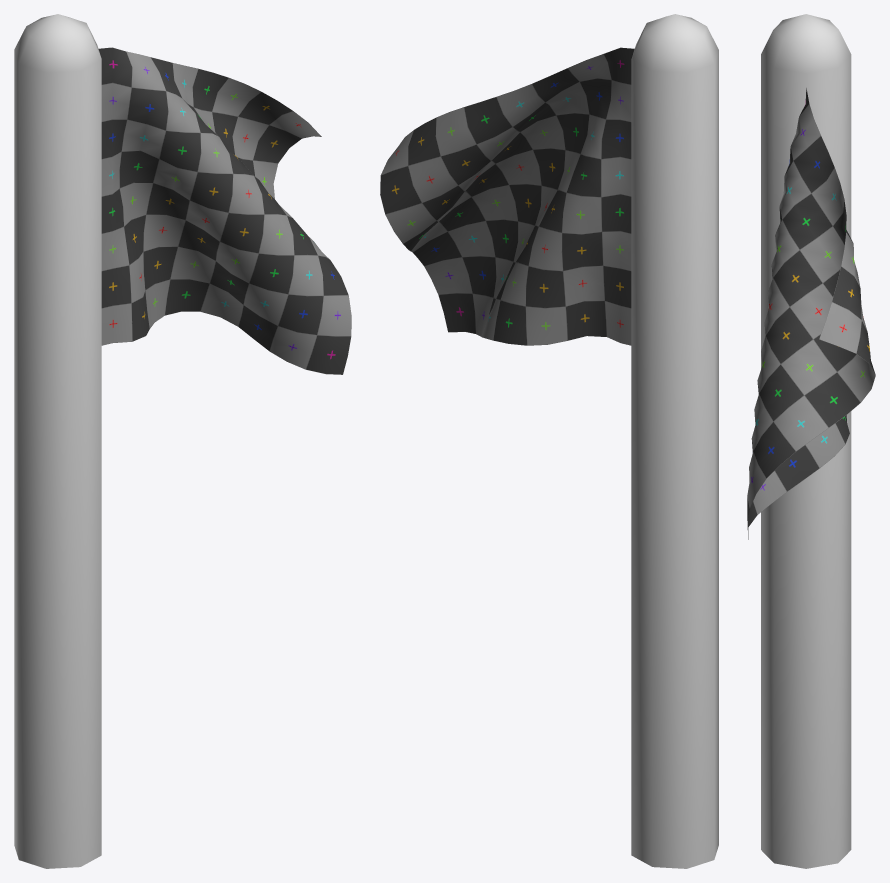
The model's file is flag.glb.
3 views of the same model, side by side, from view 1: azimuth 30°, elevation 25°; view 2: azimuth 150°, elevation 25°; view 3: azimuth 270°, elevation 25° (orthographic).
Visible parts, largest first — view 1: flag-pole, flag; view 2: flag-pole, flag; view 3: flag-pole, flag.
Boxes of the visible parts, x1=… form: flag-pole: x1=14, y1=14, x2=101, y2=868; flag: x1=98, y1=47, x2=351, y2=374; flag-pole: x1=631, y1=14, x2=718, y2=868; flag: x1=380, y1=47, x2=634, y2=345; flag-pole: x1=761, y1=14, x2=851, y2=868; flag: x1=747, y1=88, x2=875, y2=539.
Size of the model in its own units: 0.3959 by 1.02 by 0.1422.
2 materials, 1 textured.
